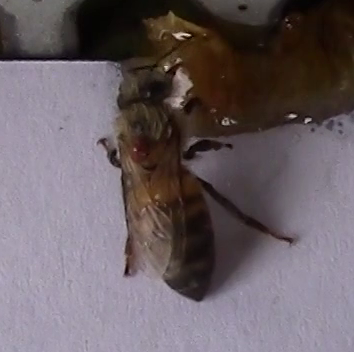Varroa destructor: (127, 131, 150, 165)
